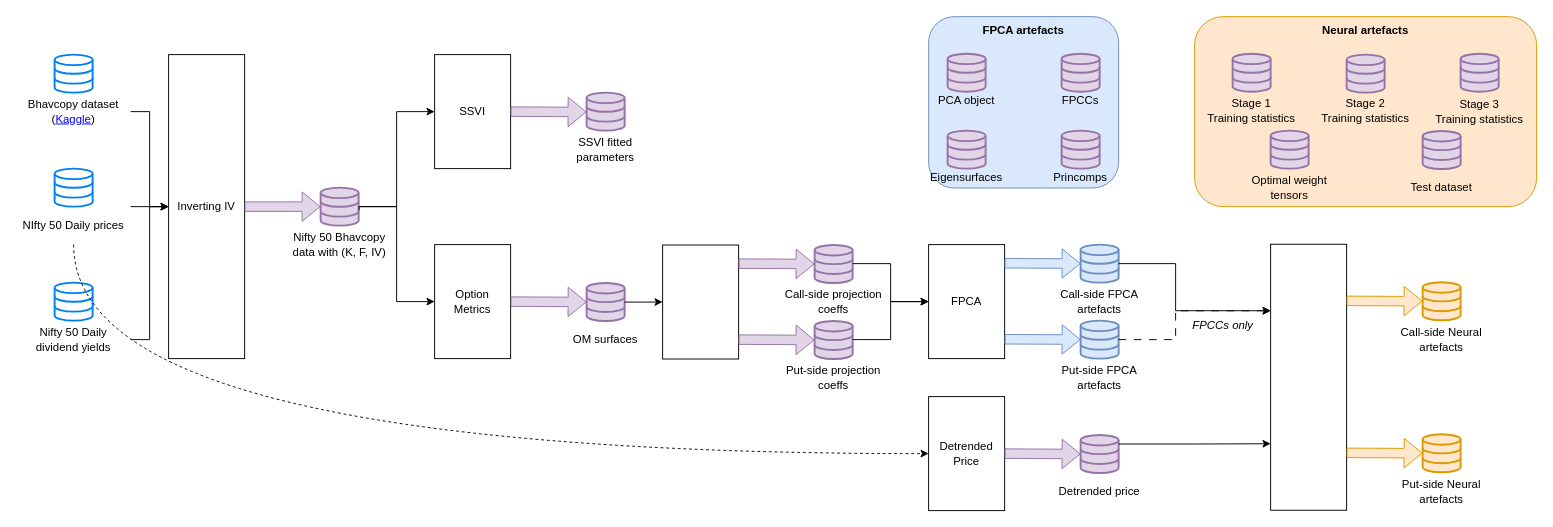
Image size: 1553x527. Some labels were removed from this diagram. Each missing label, with the box of its shape:
Legendre: (662, 244, 739, 359)
NSDE: (1270, 243, 1347, 510)
